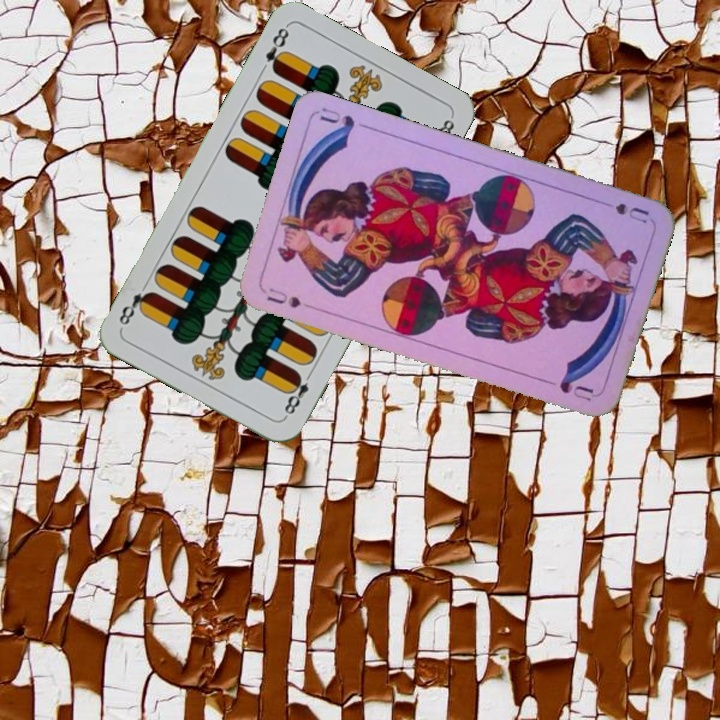E8: (280, 367, 316, 421), (261, 22, 292, 76)
SU: (263, 283, 304, 311), (611, 199, 652, 226)
